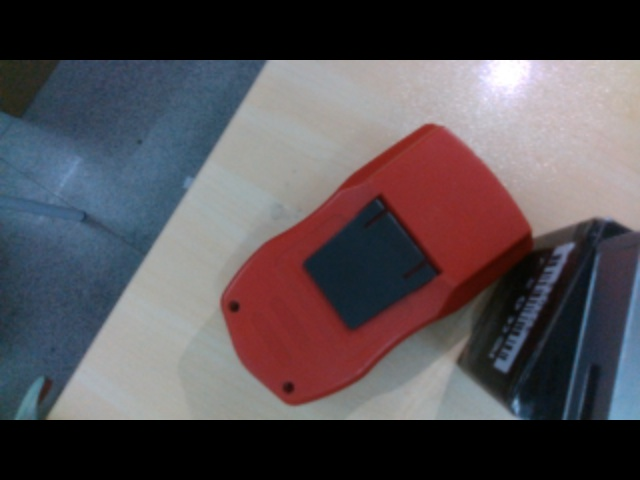Multimeter: (220, 124, 534, 403)
Screw holes: (227, 301, 240, 313), (283, 381, 295, 394)
